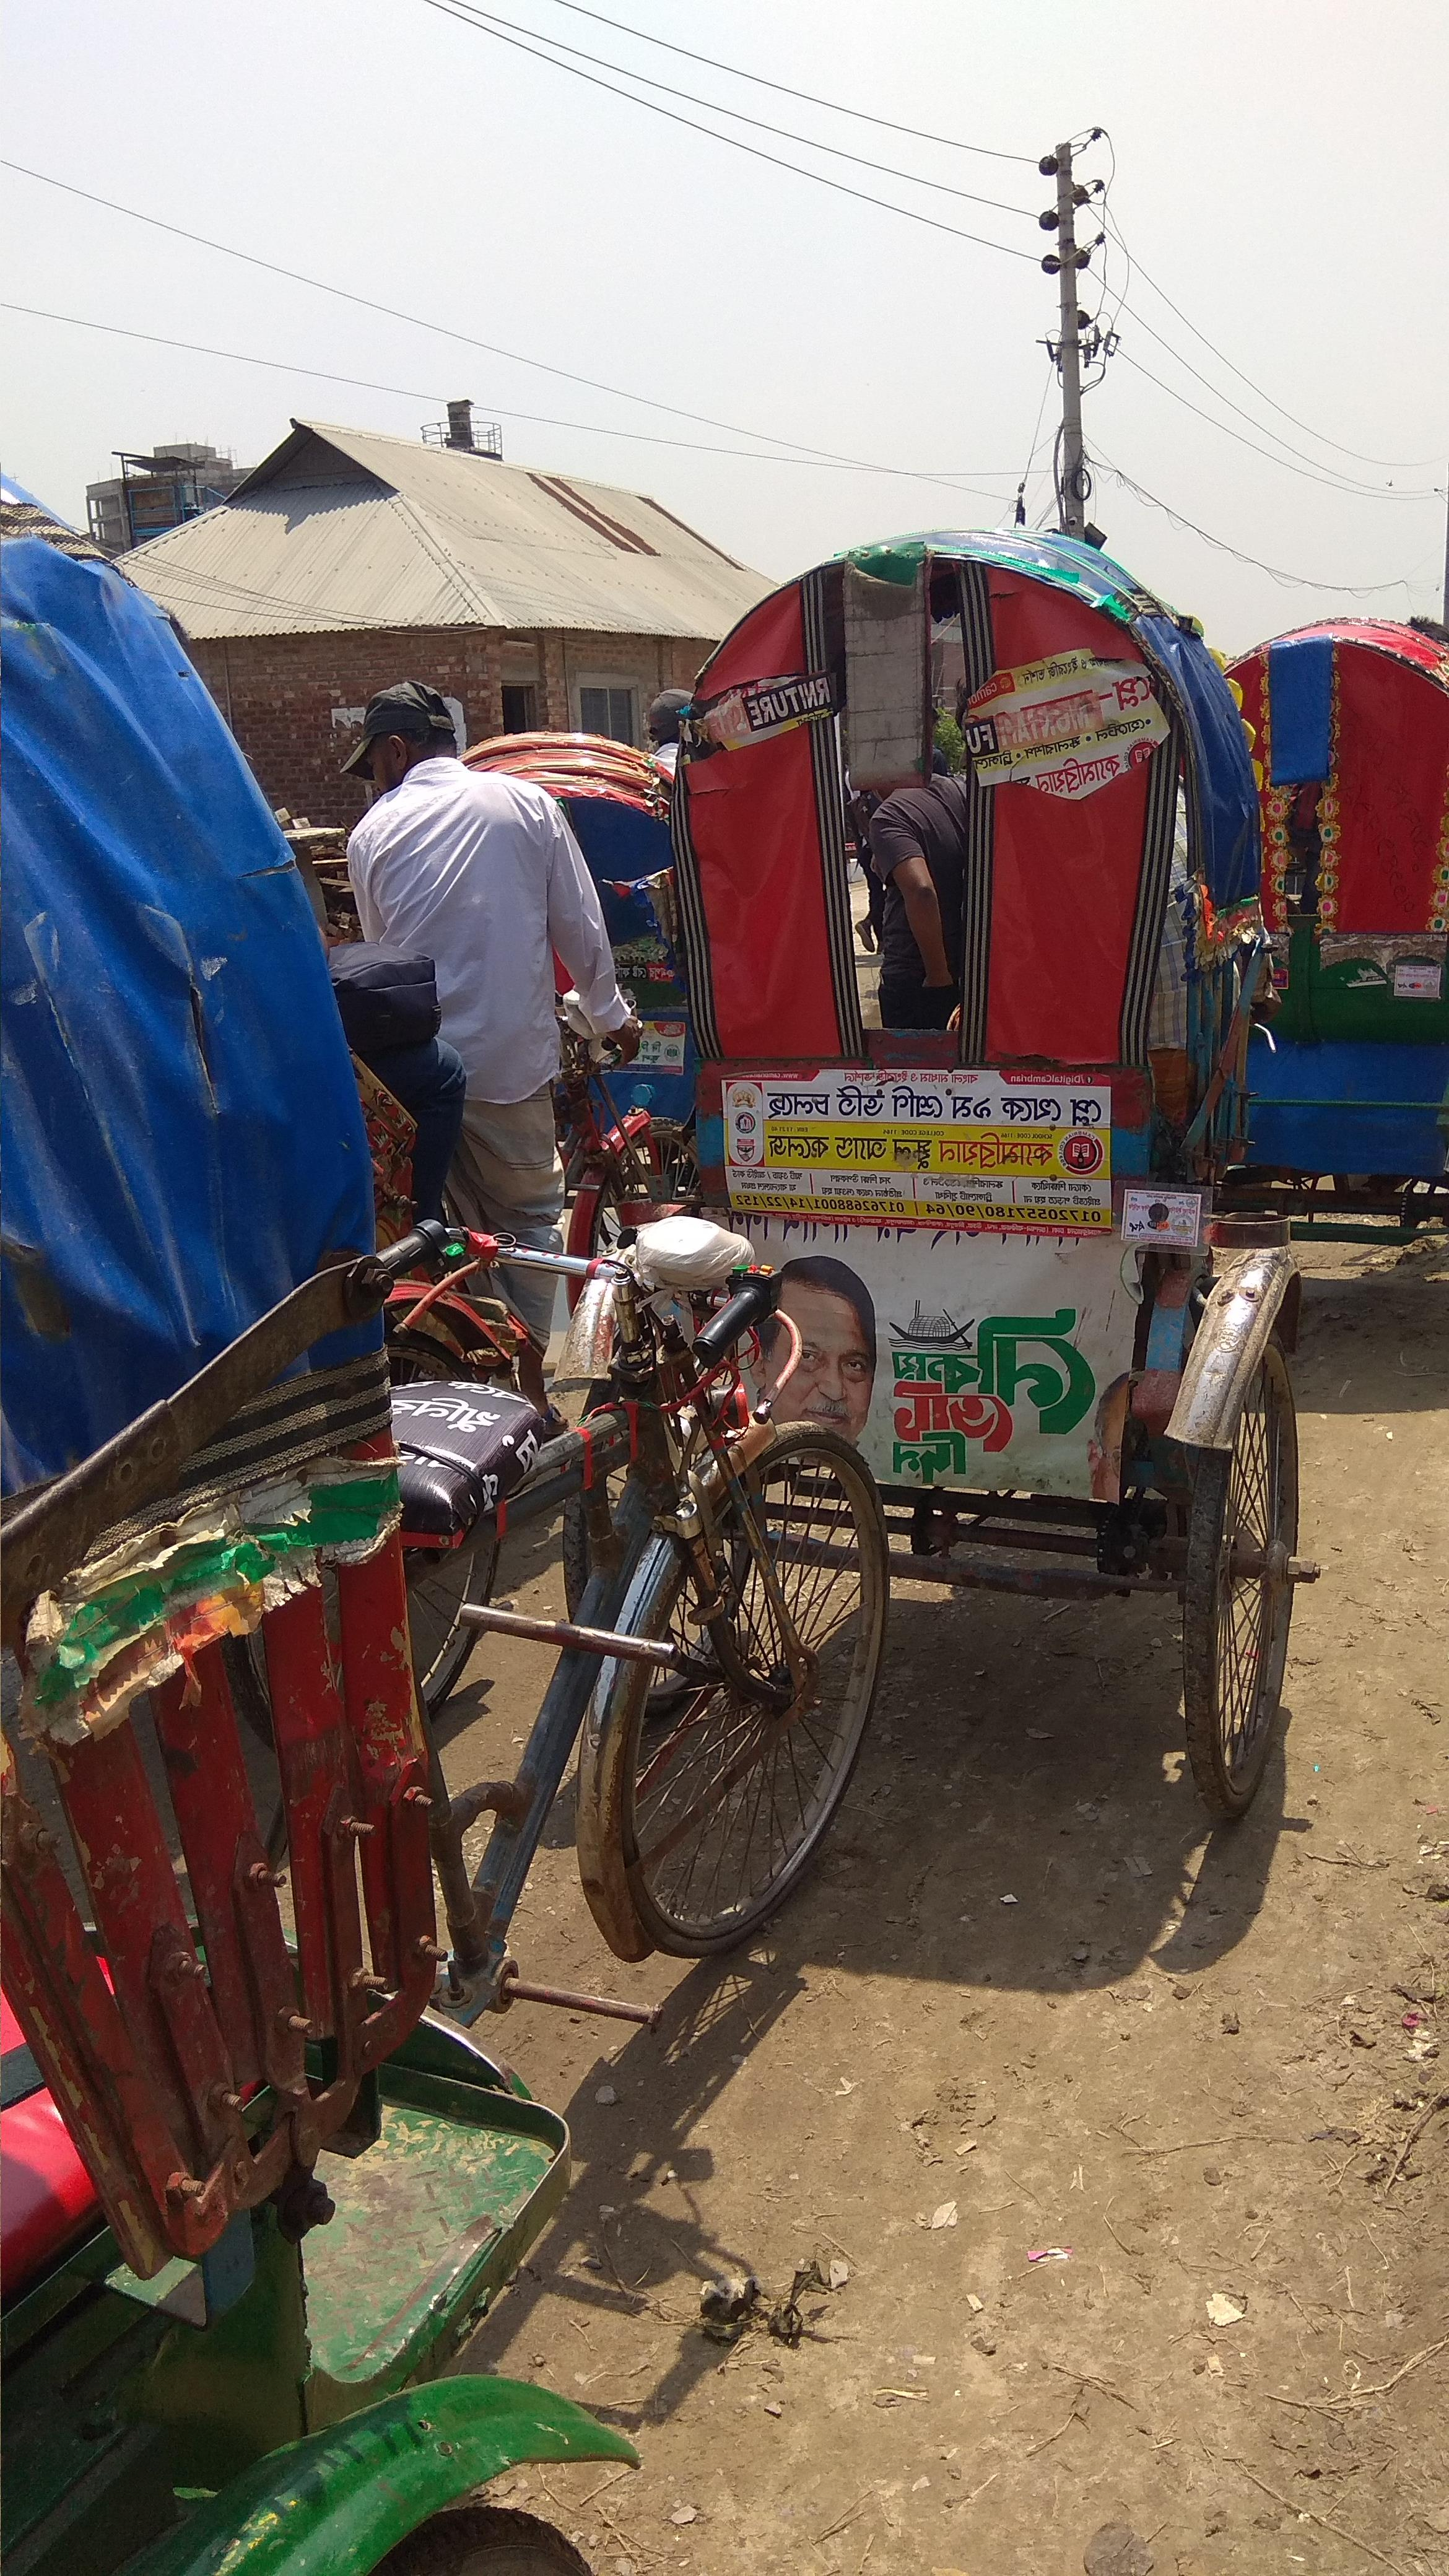Rickshaw: (12, 449, 872, 2360), (619, 508, 1330, 1842), (1198, 543, 1440, 1270), (483, 663, 724, 1185)
